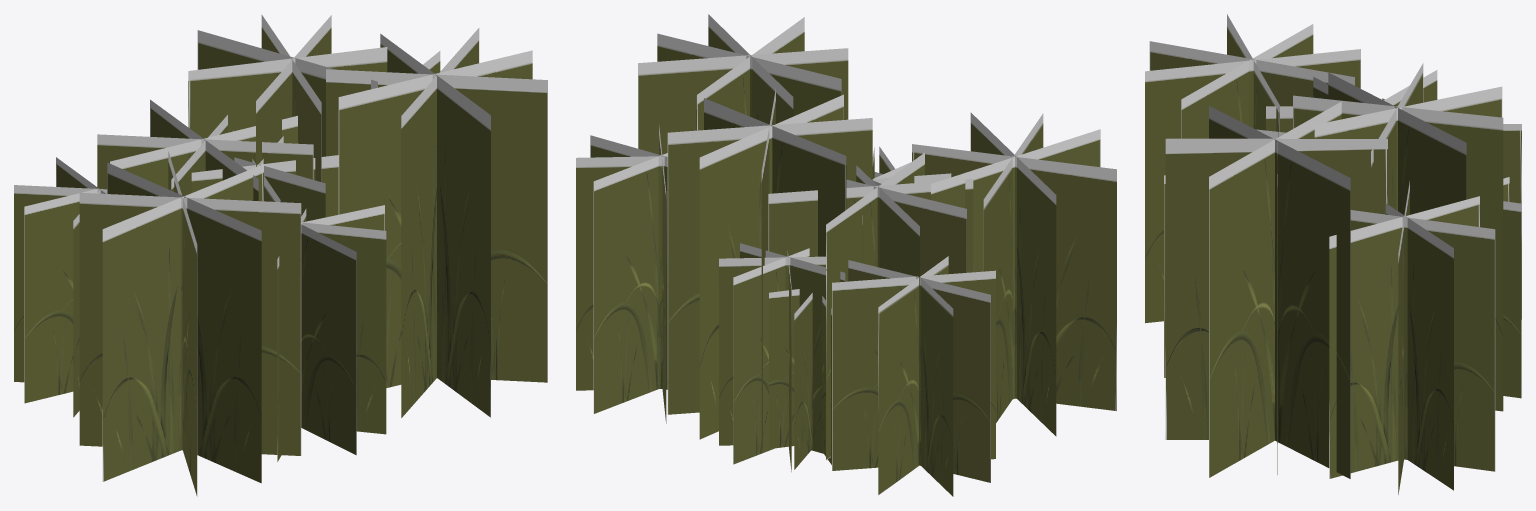
Rendered from SM_Grass22.fbx.
3 renders of one model, left to right at view 1: azimuth 30°, elevation 25°; view 2: azimuth 150°, elevation 25°; view 3: azimuth 270°, elevation 25°, orthographic. The views are drawn at different scales.
Visible parts, largest first — view 1: SM_Grass22; view 2: SM_Grass22; view 3: SM_Grass22.
Part boxes in pixels (box(x1,y1,x2,y2)): SM_Grass22: box(14, 14, 547, 496); SM_Grass22: box(576, 14, 1116, 496); SM_Grass22: box(1145, 14, 1521, 494).
Bounding box in the file's own units: 59.15 × 41.73 × 37.93.
Materials: 1 (1 with a texture image).
